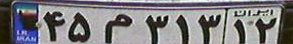character: (99, 11, 136, 44), (140, 11, 172, 44), (40, 7, 68, 44), (66, 8, 94, 44), (195, 12, 223, 44), (253, 17, 279, 44), (173, 12, 193, 44), (230, 17, 250, 44)
